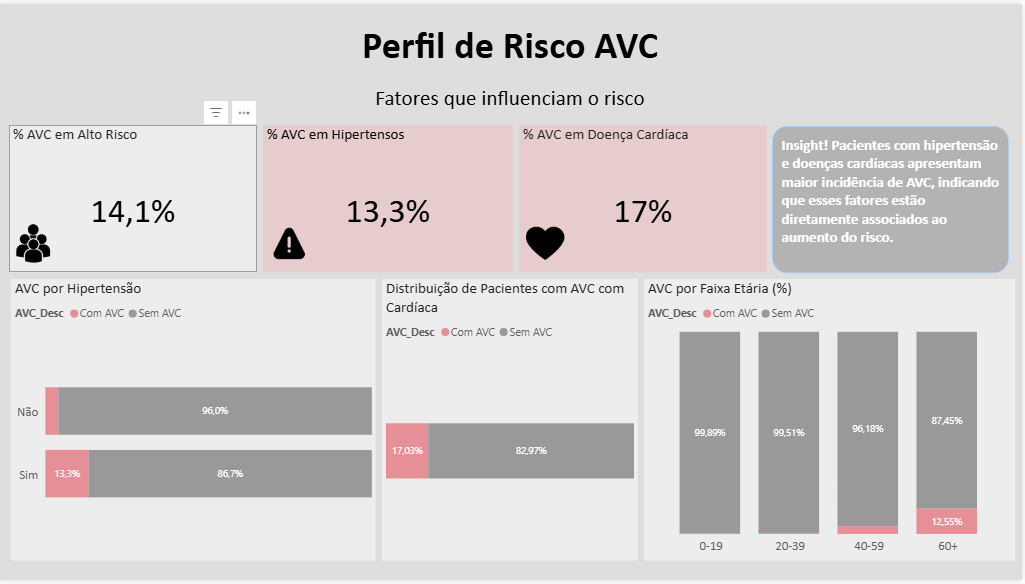

The dashboard page shown, as its layout file describes it:
{"tool":"powerbi","page":{"name":"Perfil de Risco","canvas":[1280,720],"ordinal":1},"visuals":[{"type":"card","title":"% AVC em Alto Risco","fields":{"Values":["Medidas.% Alto Risco"]},"box":[14,151,310,184],"z":0},{"type":"card","title":"% AVC em Hipertensos","fields":{"Values":["Medidas.% AVC Hipertensos"]},"box":[331.3,151,312,184],"z":1000},{"type":"card","title":"%  AVC em Doença Cardíaca","fields":{"Values":["Medidas.% AVC Cardiaco"]},"box":[650.7,151,310,184],"z":2000},{"type":"textbox","box":[0,16,1280,72],"z":3000},{"type":"textbox","box":[320,96,640,48],"z":4000},{"type":"hundredPercentStackedBarChart","title":"AVC por Hipertensão","fields":{"Category":["BaseDados.Hipertensao_Desc"],"Series":["BaseDados.AVC_Desc"],"Y":["CountNonNull(BaseDados.stroke)"]},"box":[16,344,456,352],"z":5000},{"type":"hundredPercentStackedColumnChart","title":"AVC por Faixa Etária (%)","fields":{"Category":["BaseDados.age range"],"Y":["CountNonNull(BaseDados.AVC_Desc)"],"Series":["BaseDados.AVC_Desc"]},"box":[808,344,464,352],"z":6000},{"type":"image","box":[340,269,48,56],"z":7000},{"type":"textbox","box":[968,152,296,184],"z":8000},{"type":"hundredPercentStackedBarChart","title":"Distribuição de Pacientes com AVC com Cardíaca","fields":{"Y":["Sum(BaseDados.heart_disease)"],"Series":["BaseDados.AVC_Desc"]},"box":[480,344,320,352],"z":9000},{"type":"image","box":[660,271,48,56],"z":10000},{"type":"image","box":[20,271,48,56],"z":11000}]}

Visuals, with their boxes in screenshot pixels (x1, y1, x2, y2), scaled from the page's 1280x720 canvas onto the 1025x584 screenshot:
"% AVC em Alto Risco" card: [11, 122, 259, 272]
"% AVC em Hipertensos" card: [265, 122, 515, 272]
"%  AVC em Doença Cardíaca" card: [521, 122, 769, 272]
textbox: [0, 13, 1024, 71]
textbox: [256, 78, 769, 117]
"AVC por Hipertensão" hundredPercentStackedBarChart: [13, 279, 378, 565]
"AVC por Faixa Etária (%)" hundredPercentStackedColumnChart: [647, 279, 1019, 565]
image: [272, 218, 311, 264]
textbox: [775, 123, 1012, 273]
"Distribuição de Pacientes com AVC com Cardíaca" hundredPercentStackedBarChart: [384, 279, 641, 565]
image: [529, 220, 567, 265]
image: [16, 220, 54, 265]
